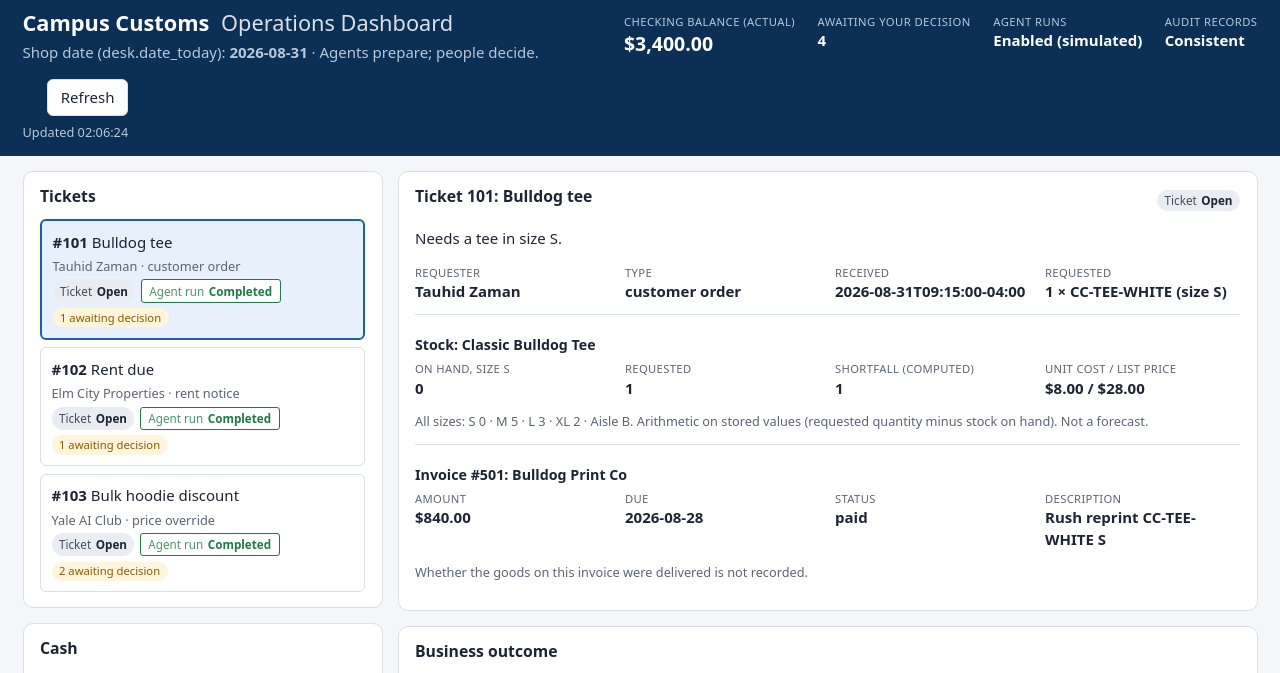
human decisions › distinguishes a withdrawn authorization from a plain rejection
The width and height of the screenshot is (1280, 673).
Click the button with aria-label "Ticket 103: Bulk hoodie discount, open" at (202, 533), box [40,474,365,592]
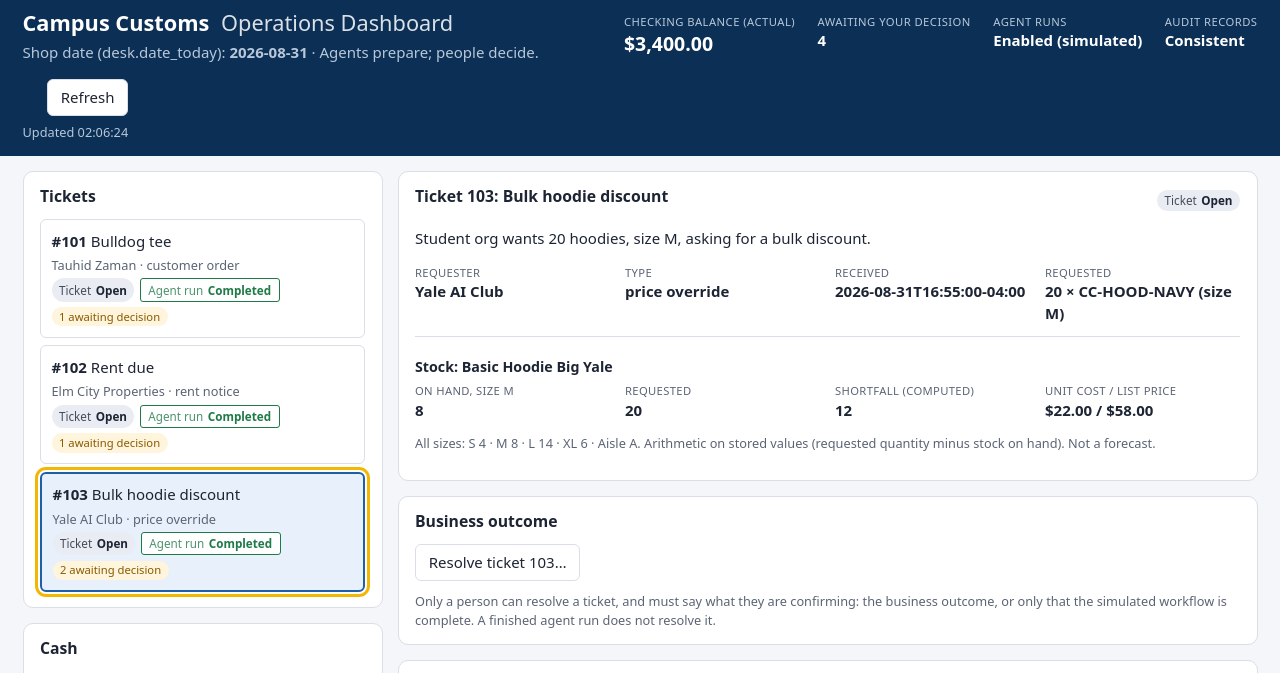
Click the button with aria-label "Ticket 101:" at (202, 278), box [40,219,365,338]
(page scrolled)
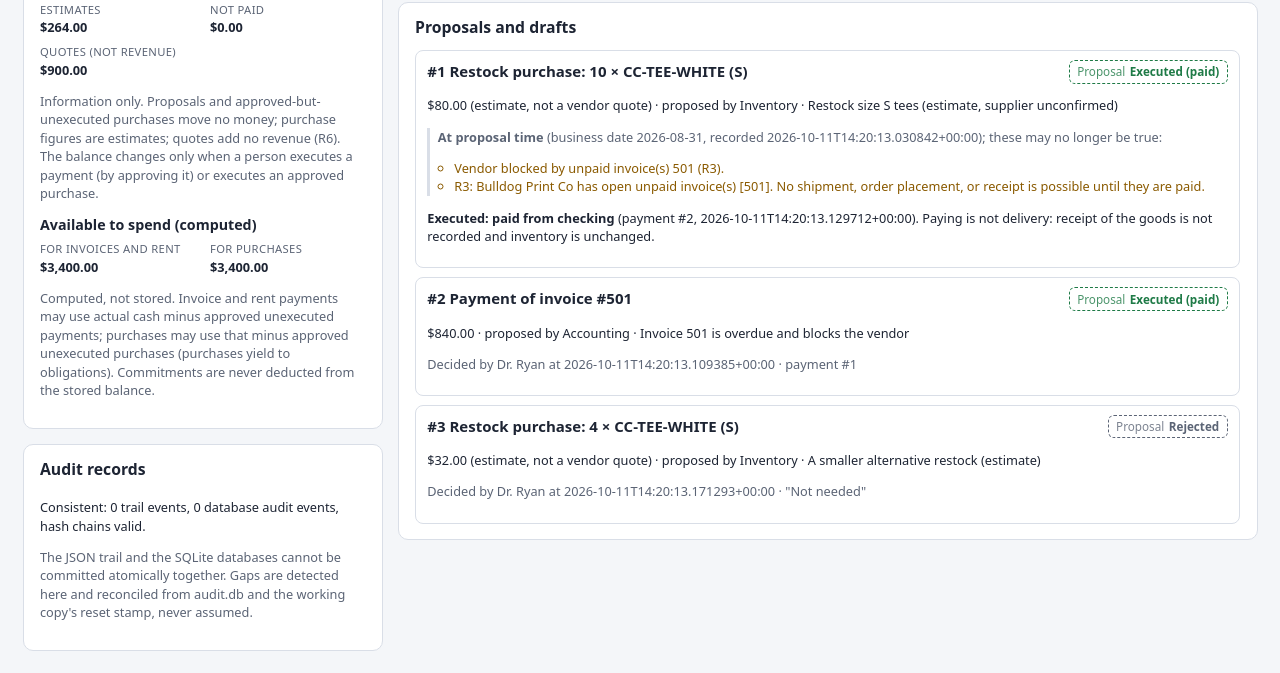
Now the text "Rejected" is shown, box [1169,418,1219,434]
